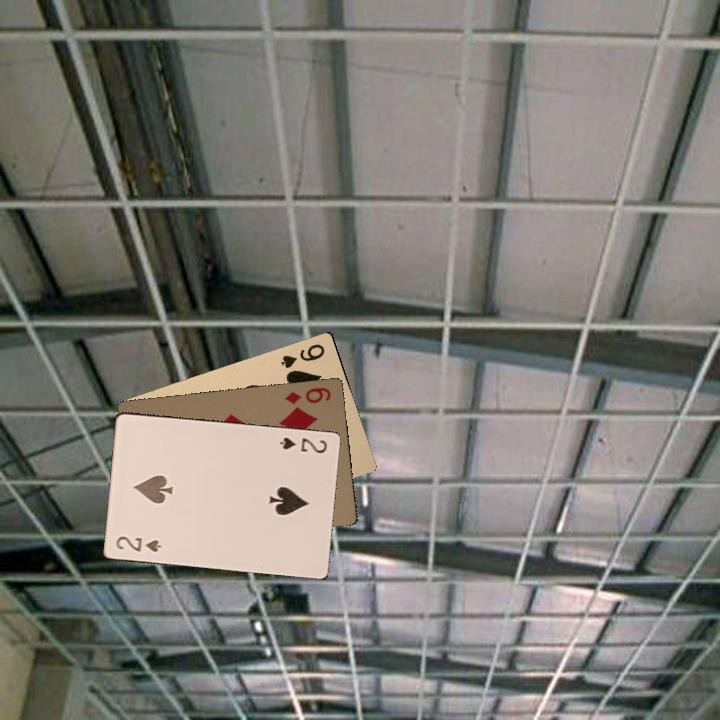2s: (277, 433, 329, 456), (112, 532, 164, 555)
6d: (280, 383, 333, 406)
9s: (277, 340, 327, 371)
